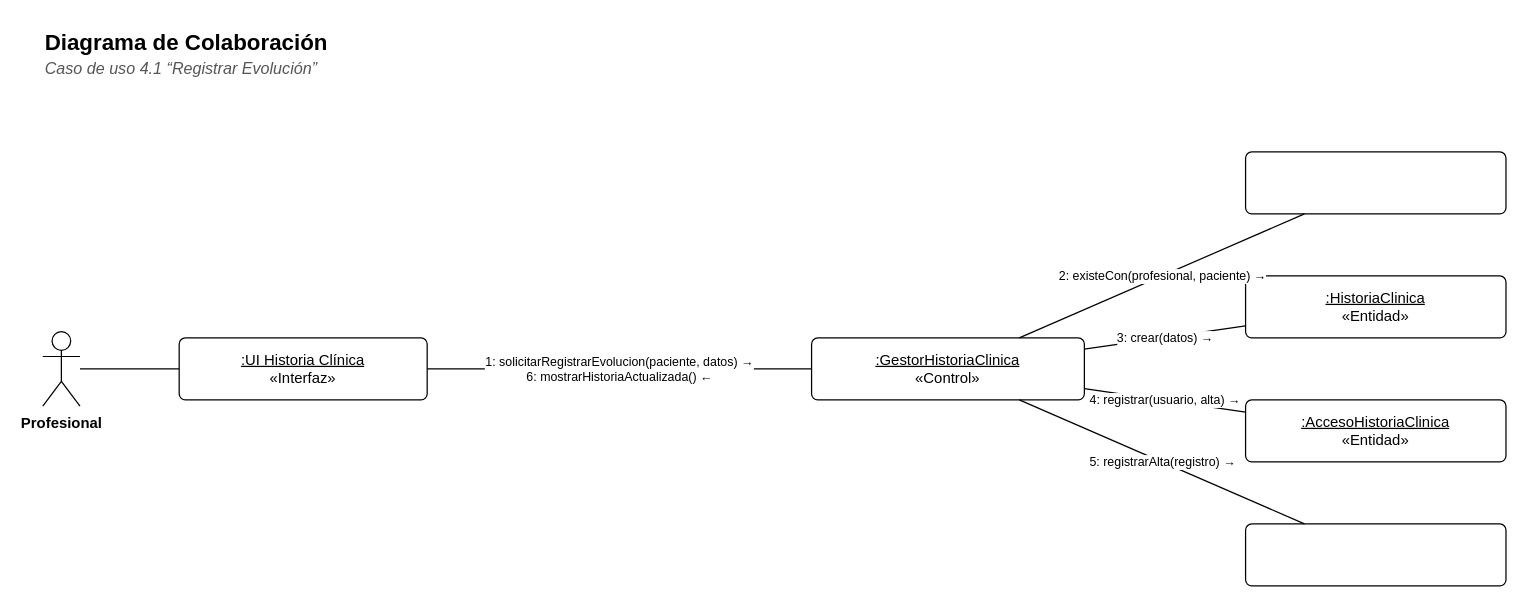
This 1528x608 diagram has some shape labels left out. Here are the shapes that lost their labels. From the top down, the centre of each, then its label:
point (1375, 182): :Turno «Entidad»
point (1375, 554): :GestorAuditoria «Control»
